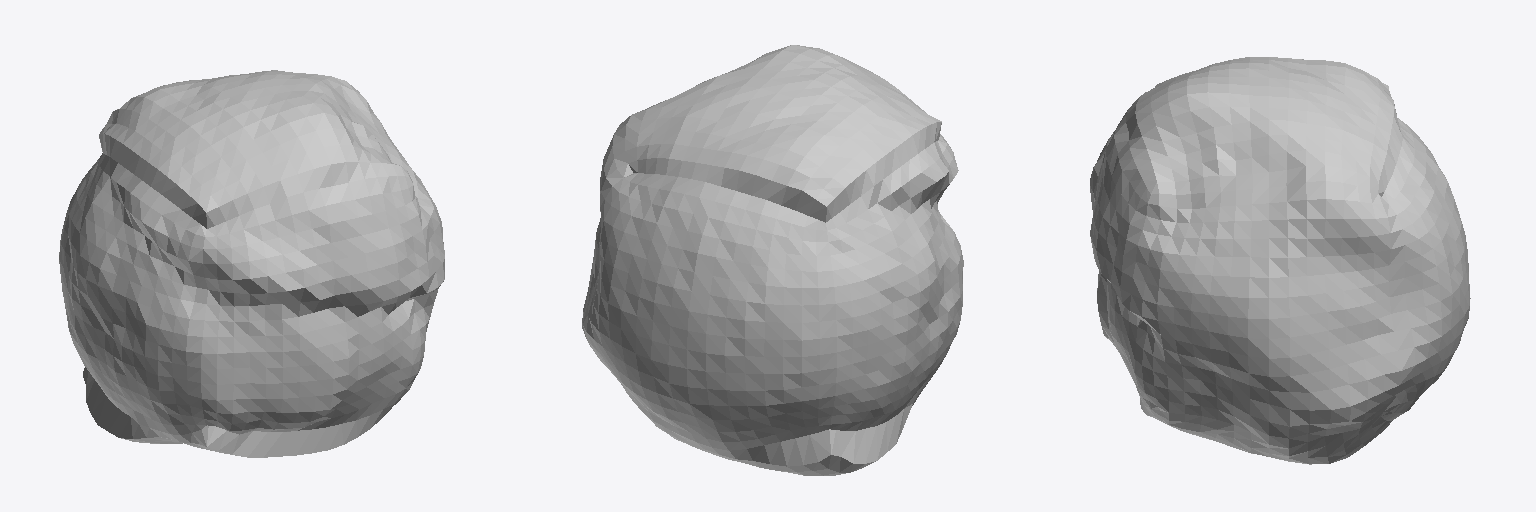
File: Asteriod3.obj
The picture shows the model from 3 angles: view 1: azimuth 30°, elevation 25°; view 2: azimuth 150°, elevation 25°; view 3: azimuth 270°, elevation 25°; orthographic projection.
Parts seen in each view (by area): view 1: Cube_Cube.001; view 2: Cube_Cube.001; view 3: Cube_Cube.001.
Boxes of the visible parts, x1=… form: Cube_Cube.001: x1=59, y1=70, x2=444, y2=457; Cube_Cube.001: x1=582, y1=45, x2=963, y2=475; Cube_Cube.001: x1=1090, y1=57, x2=1470, y2=464.
Bounding box in the file's own units: 1.53 × 1.54 × 1.52.